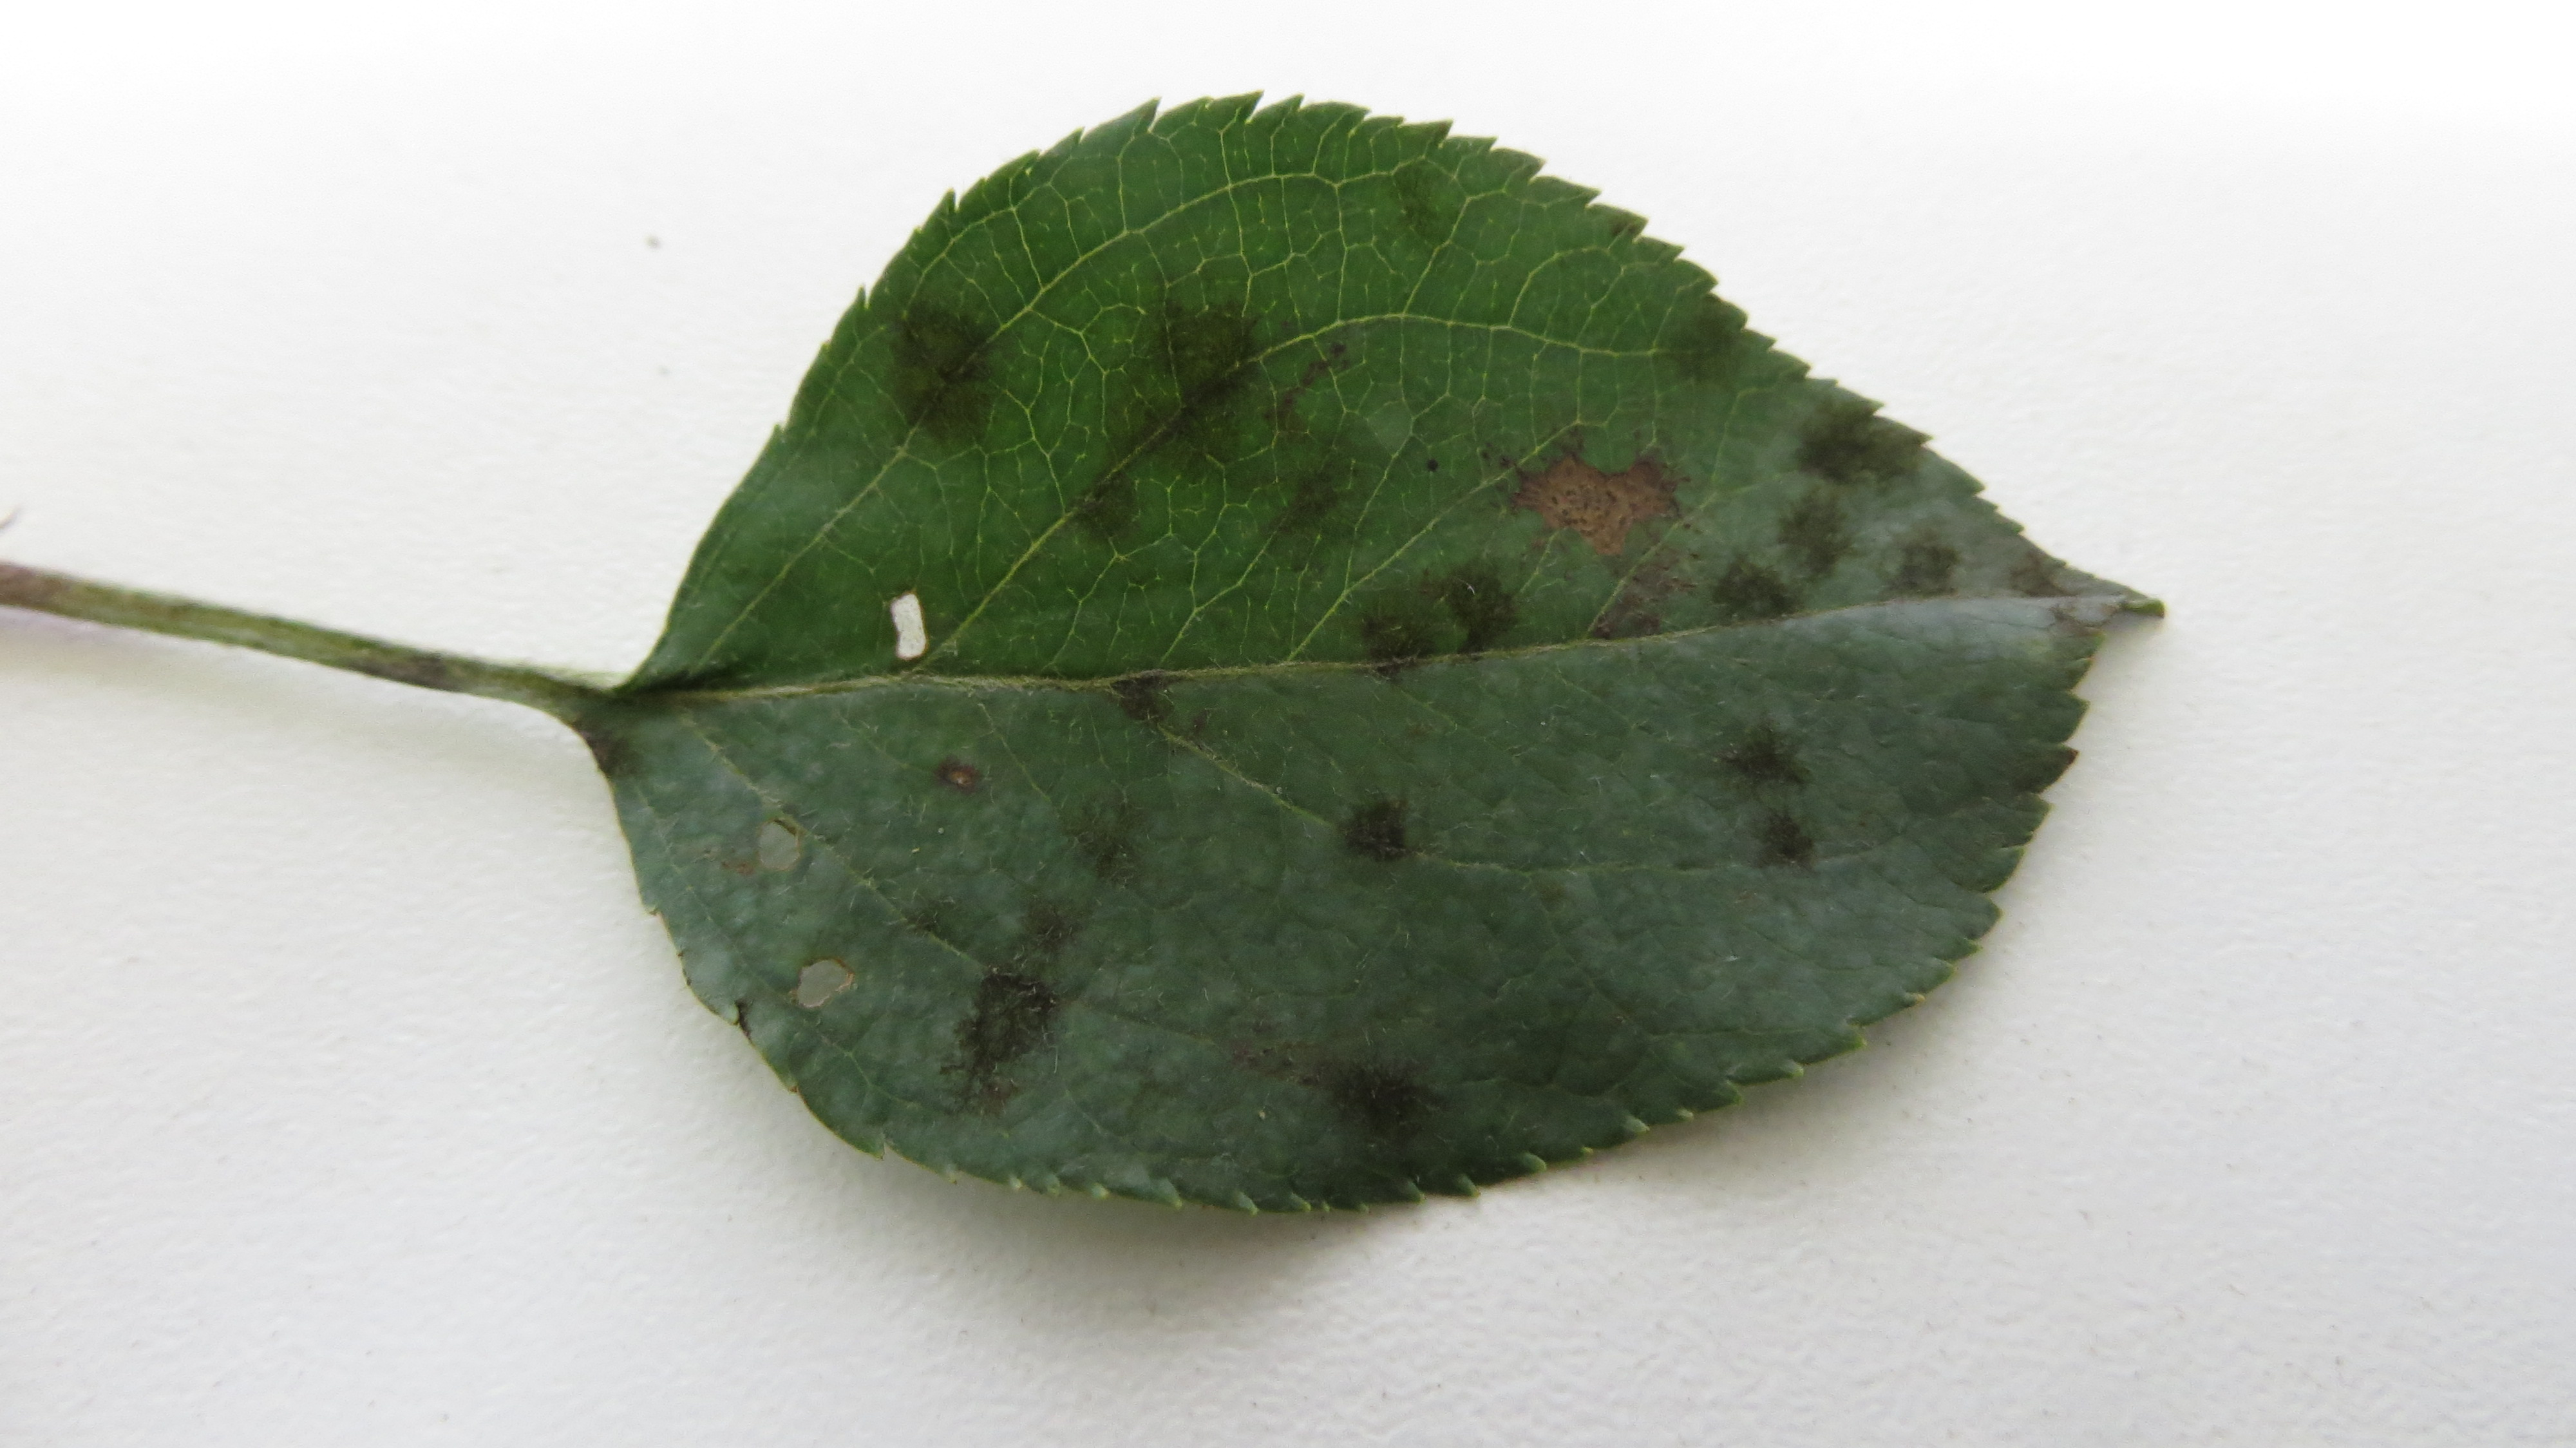sarna: (876, 290, 1030, 473), (1109, 303, 1261, 481), (938, 947, 1076, 1110), (1306, 1044, 1458, 1177), (1253, 407, 1376, 563), (1778, 384, 1904, 487), (1707, 692, 1819, 797), (1877, 512, 1982, 618), (1693, 538, 1799, 641), (1330, 586, 1437, 685), (1329, 786, 1435, 883), (1412, 549, 1509, 655), (1760, 478, 1849, 593), (1665, 304, 1767, 404), (1090, 659, 1194, 752), (1063, 788, 1150, 885), (1063, 453, 1150, 551), (1741, 814, 1835, 897), (1396, 172, 1467, 260), (892, 883, 978, 954), (1001, 873, 1079, 949), (932, 754, 1010, 823)
